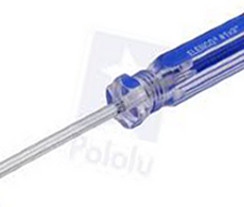Screwdriver: (1, 11, 244, 179)
